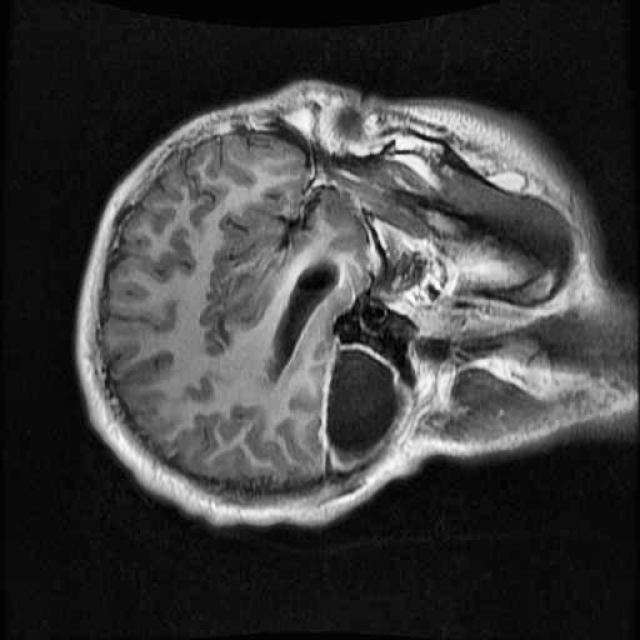Non-Tumor: (306, 321, 415, 489)
